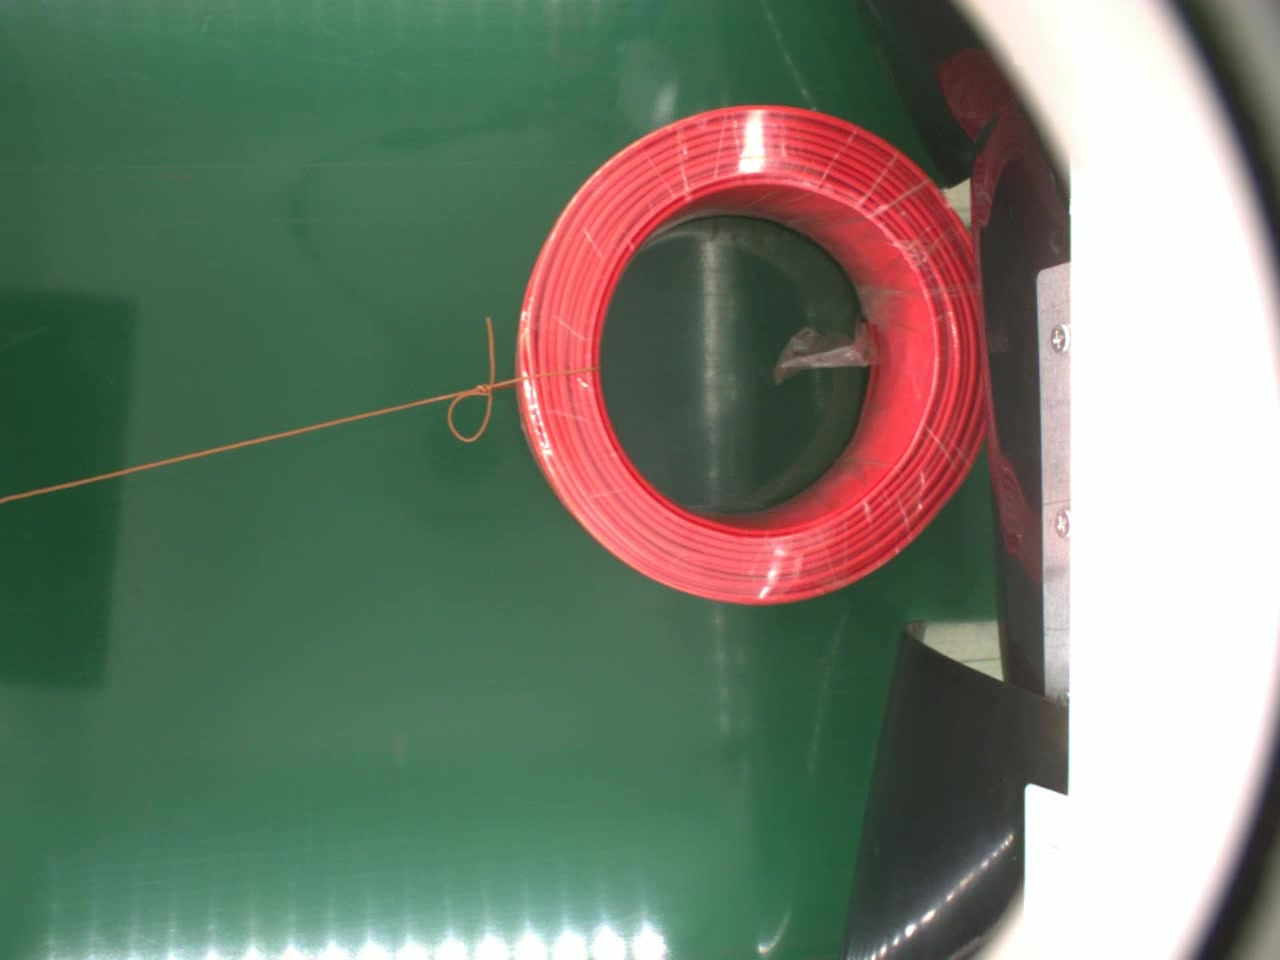red: (511, 99, 996, 607)
